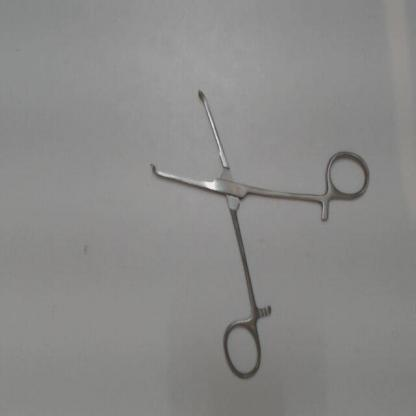Allis Tissue Forceps: (140, 77, 378, 387)
